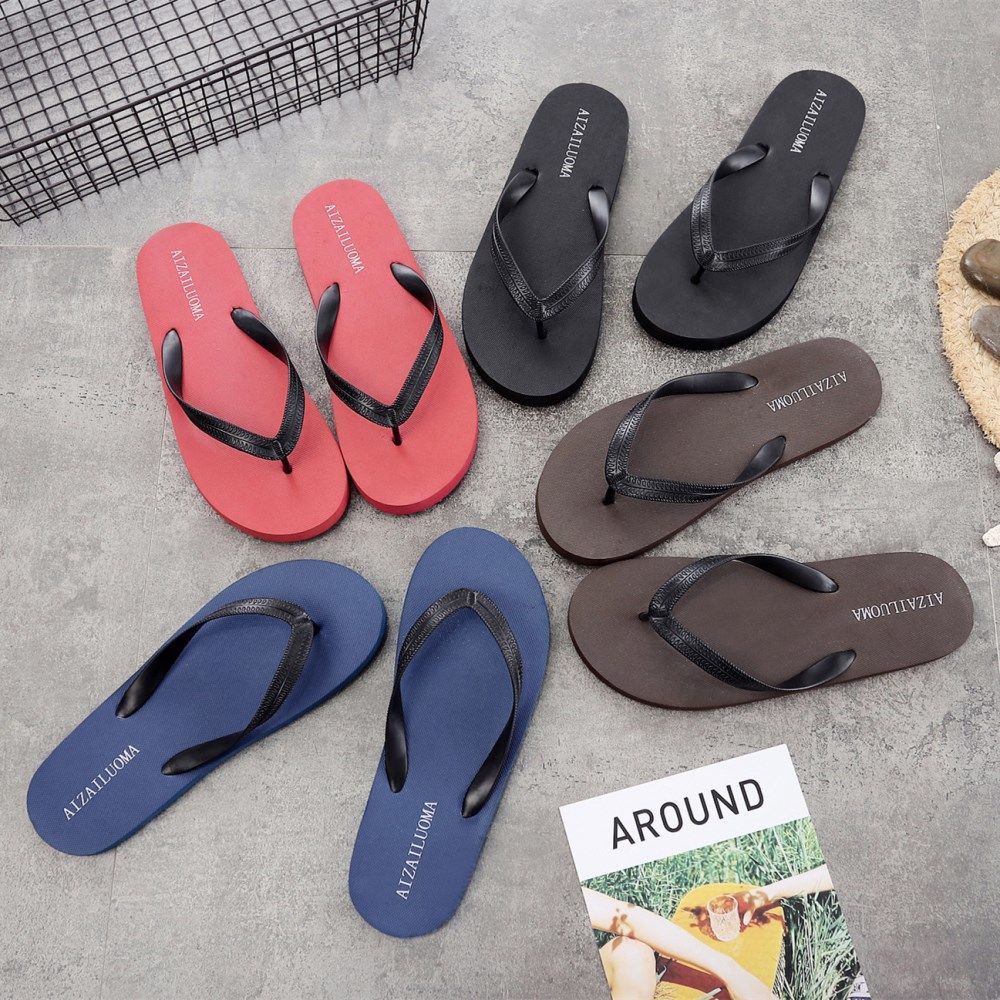flip_flops: (24, 559, 388, 858), (349, 526, 547, 935), (533, 340, 883, 563), (135, 221, 348, 544), (567, 550, 980, 713), (632, 70, 867, 355), (292, 178, 481, 520), (457, 79, 630, 403)
